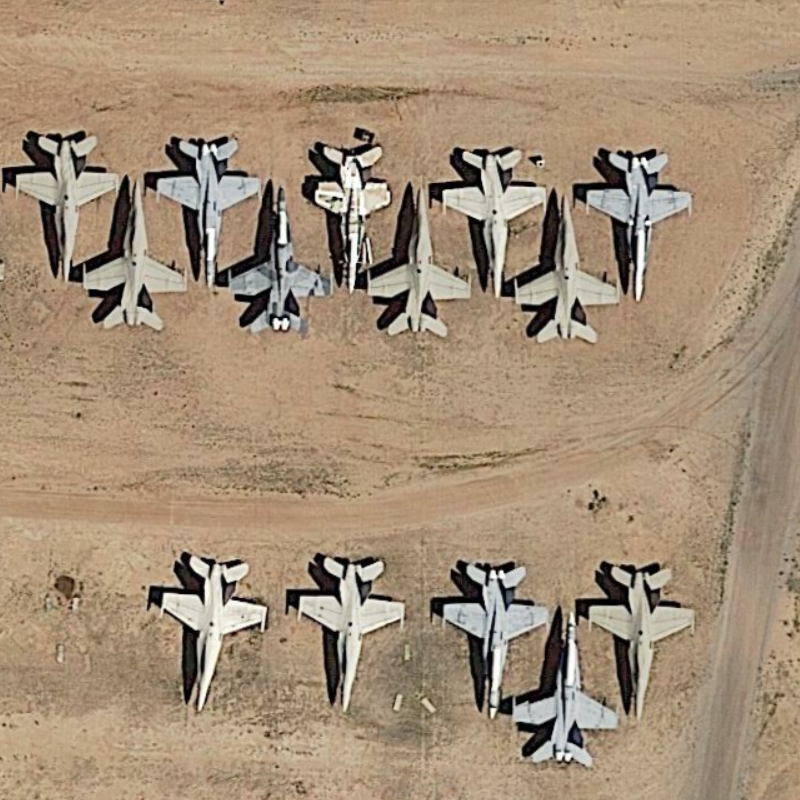A16: (140, 542, 274, 716), (576, 135, 704, 309), (582, 550, 707, 723), (424, 550, 541, 726), (506, 601, 623, 774), (286, 550, 408, 711), (214, 183, 340, 338), (437, 137, 554, 303), (76, 175, 197, 334), (510, 178, 625, 344), (6, 122, 119, 287), (155, 129, 265, 294), (360, 180, 469, 338), (309, 135, 392, 303)
